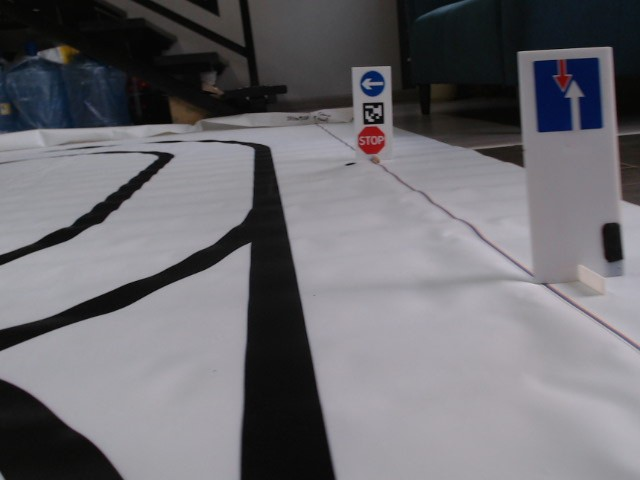Stop: (357, 125, 386, 153)
priority_movement: (530, 54, 606, 134)
